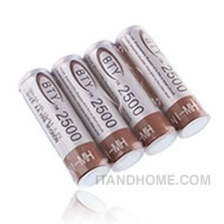battery: (15, 61, 112, 192), (113, 18, 212, 146), (48, 47, 144, 174), (80, 36, 178, 158)
